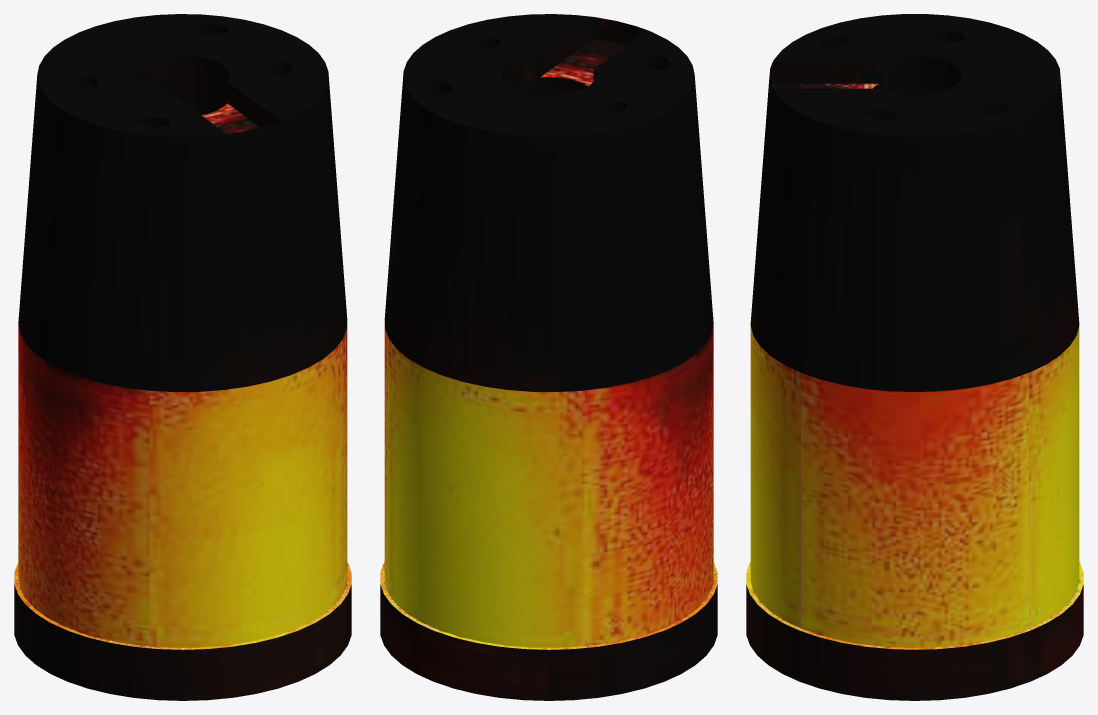
File: wmb_orange.glb
3 views of the same model, side by side, from view 1: azimuth 30°, elevation 25°; view 2: azimuth 150°, elevation 25°; view 3: azimuth 270°, elevation 25° (orthographic).
Visible parts, largest first — view 1: Asset3DLoader.sceneRoot; view 2: Asset3DLoader.sceneRoot; view 3: Asset3DLoader.sceneRoot.
Boxes of the visible parts, <box> form: Asset3DLoader.sceneRoot: <box>14,14,351,700</box>; Asset3DLoader.sceneRoot: <box>380,14,717,700</box>; Asset3DLoader.sceneRoot: <box>746,14,1083,700</box>.
Bounding box in the file's own units: 72 × 130 × 71.8.
1 material, 1 textured.
